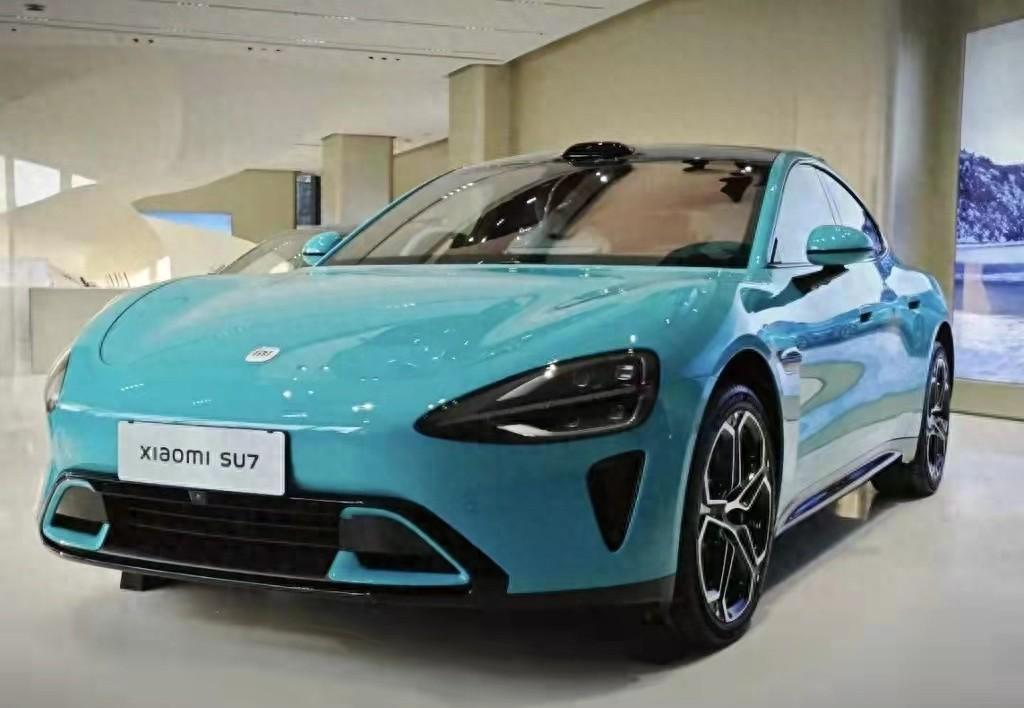su7: (45, 135, 952, 654)
